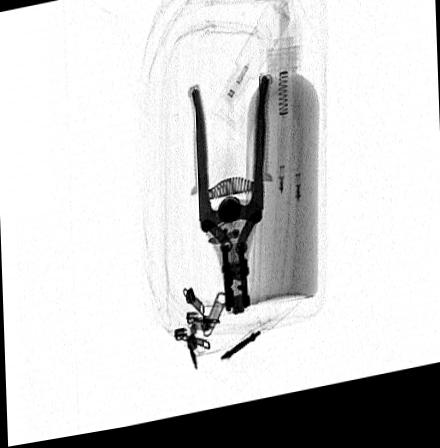Pliers: (187, 83, 270, 326)
